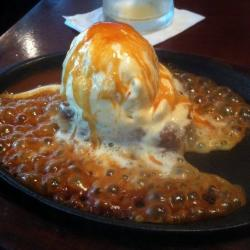icecream: (51, 18, 188, 145)
